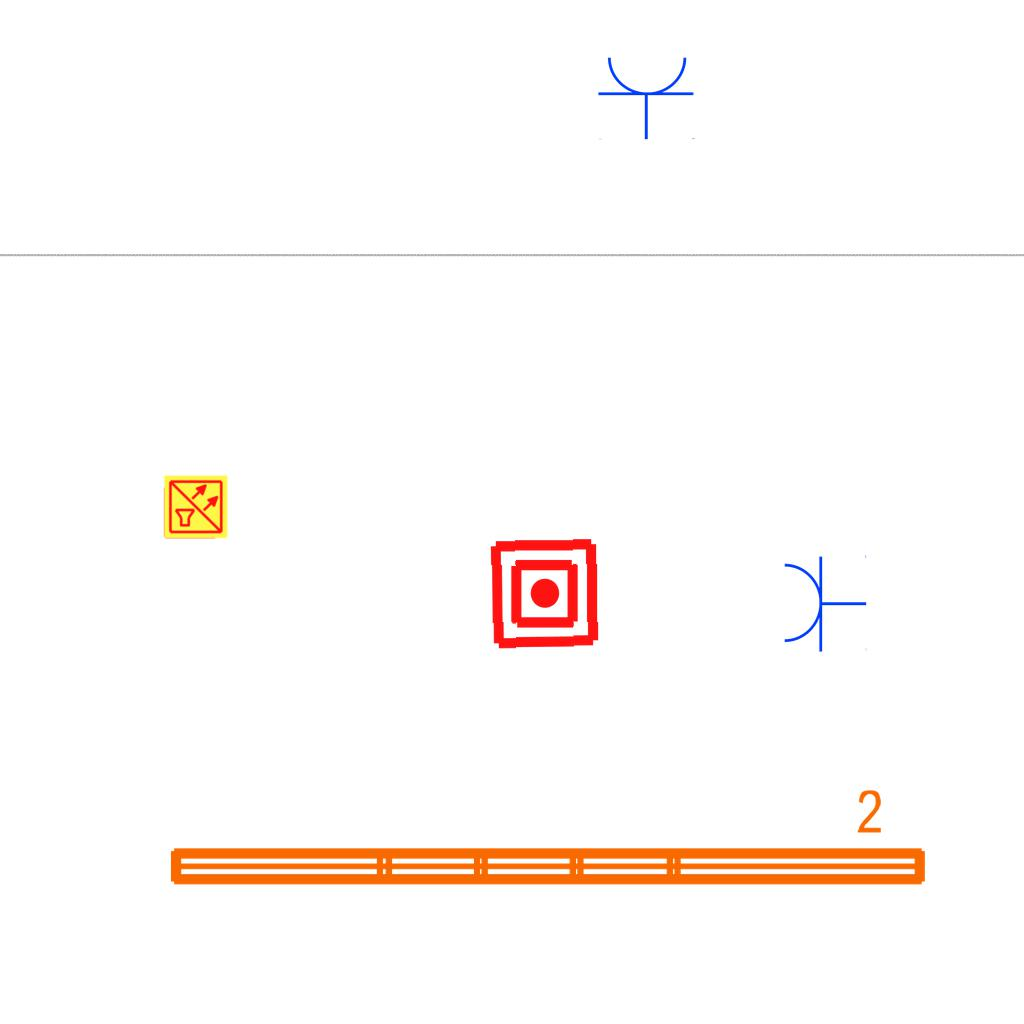Ambulanz_Pendelleuchte_LED: (160, 785, 934, 897)
NAM-Nichtautomatischer_Melder: (487, 536, 602, 651)
OKW_Multisensormelder_(Kombination_optischer_Rauch-Kahlenmonoxid_Waerme-Melder): (163, 474, 229, 540)
Schukosteckdose_einfach: (780, 553, 867, 653), (597, 53, 697, 140)
